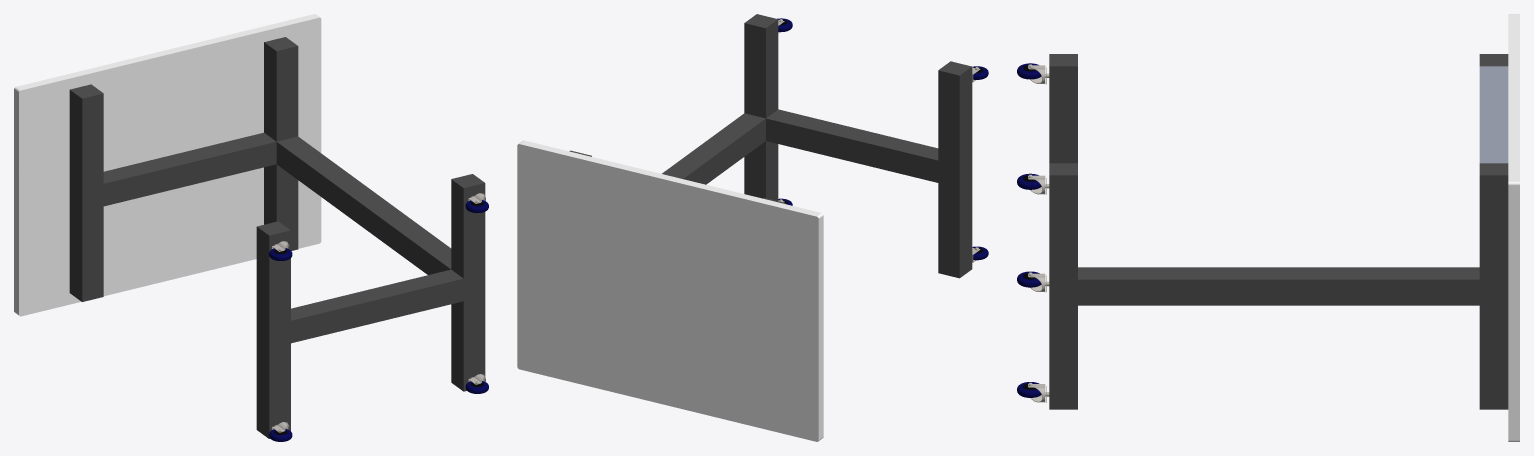
The model's file is mesa comida.fbx.
The picture shows the model from 3 angles, left to right: view 1: azimuth 30°, elevation 25°; view 2: azimuth 150°, elevation 25°; view 3: azimuth 270°, elevation 25°; orthographic projection. The views are drawn at different scales.
Visible parts, largest first — view 1: Fillet1, Cut-Extrude1; view 2: Fillet1, Cut-Extrude1; view 3: Cut-Extrude1, Fillet1, Fillet13 (×4).
Boxes of the visible parts, x1=… form: Fillet1: x1=14, y1=14, x2=321, y2=316; Cut-Extrude1: x1=69, y1=37, x2=485, y2=438; Fillet1: x1=517, y1=140, x2=823, y2=441; Cut-Extrude1: x1=569, y1=14, x2=972, y2=278; Cut-Extrude1: x1=1049, y1=54, x2=1508, y2=409; Fillet1: x1=1508, y1=14, x2=1519, y2=441; Fillet13 (×4): x1=1017, y1=63, x2=1049, y2=402.
Size of the model in its own units: 27.56 by 19.69 by 34.49.
